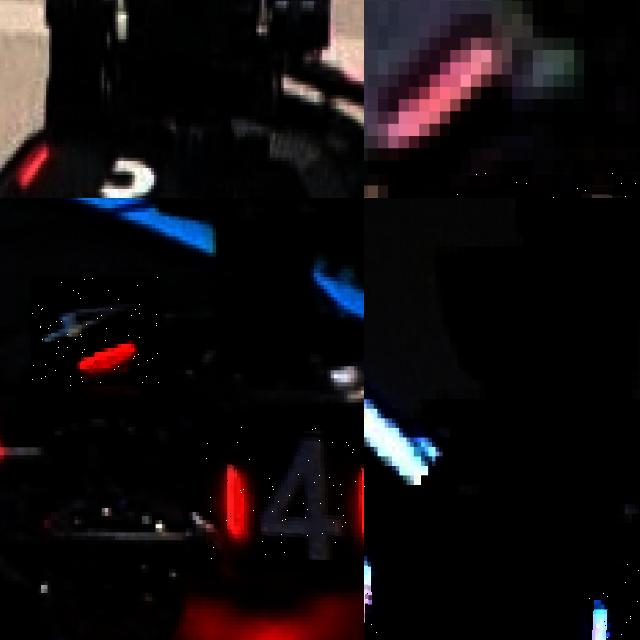B1: (588, 561, 640, 640)
R4: (206, 426, 364, 560), (31, 277, 159, 386)
